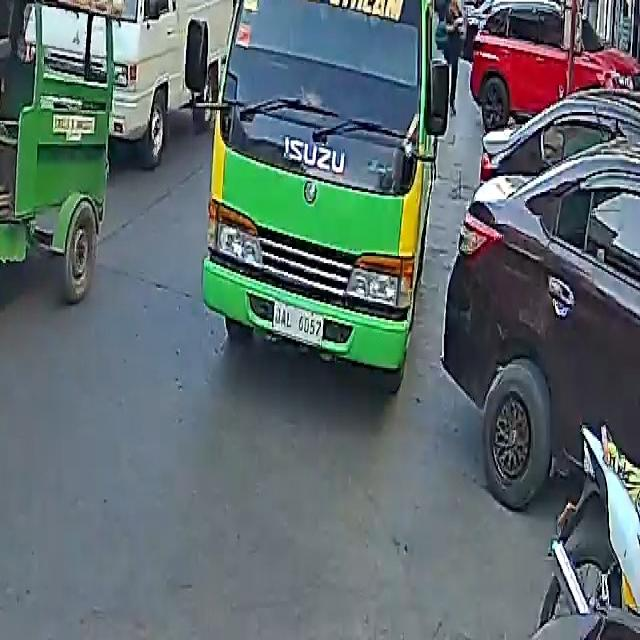car: (442, 101, 640, 513), (468, 0, 640, 130)
